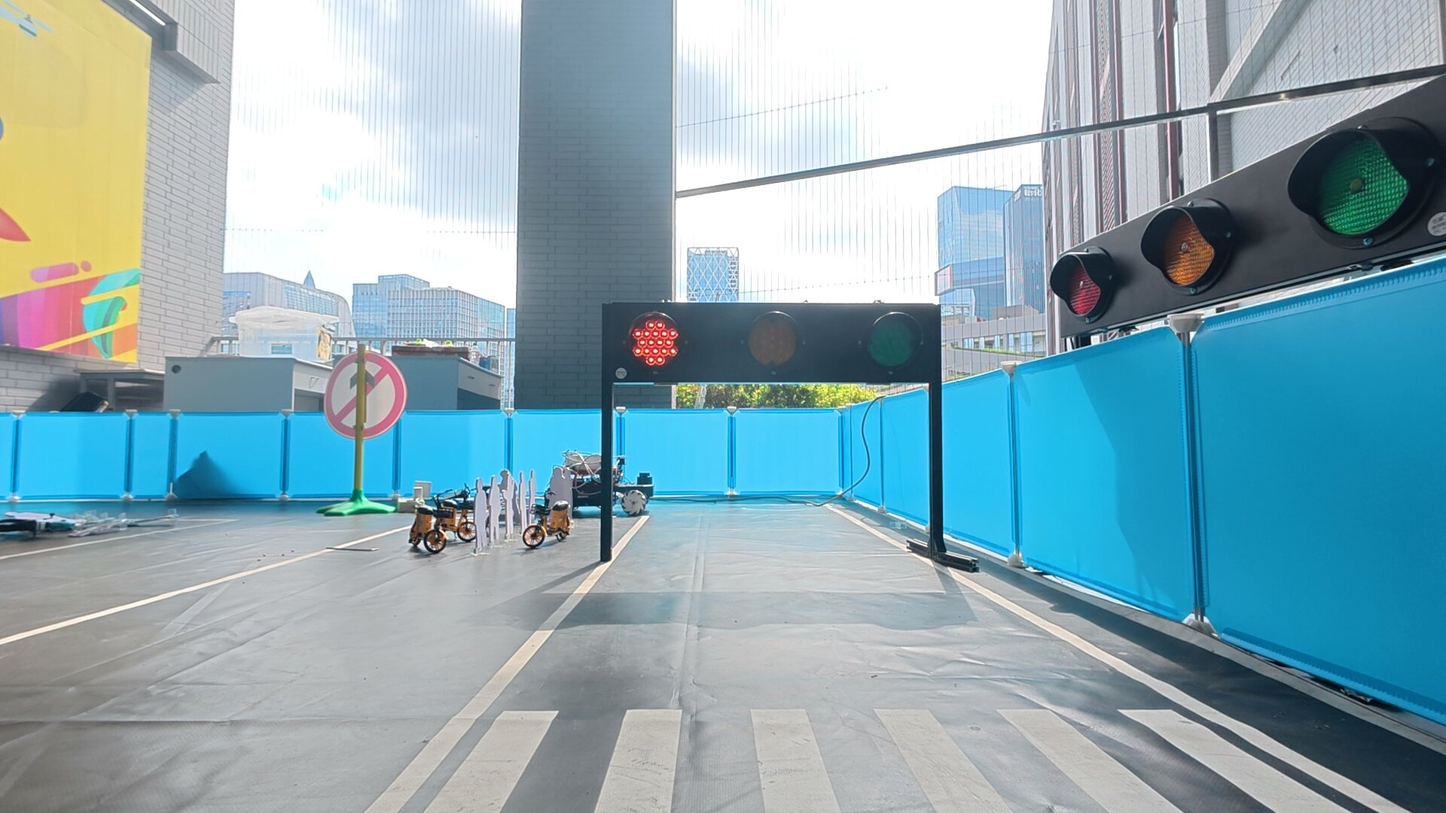stop: (628, 313, 683, 373)
